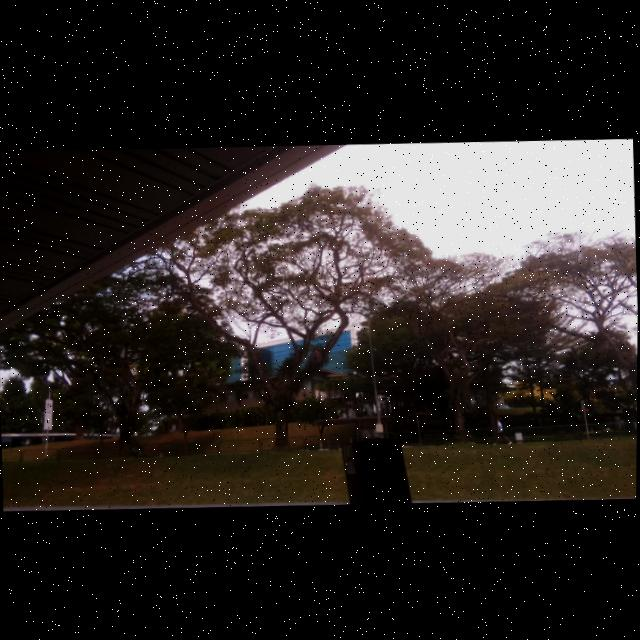H: (345, 446, 354, 468)
